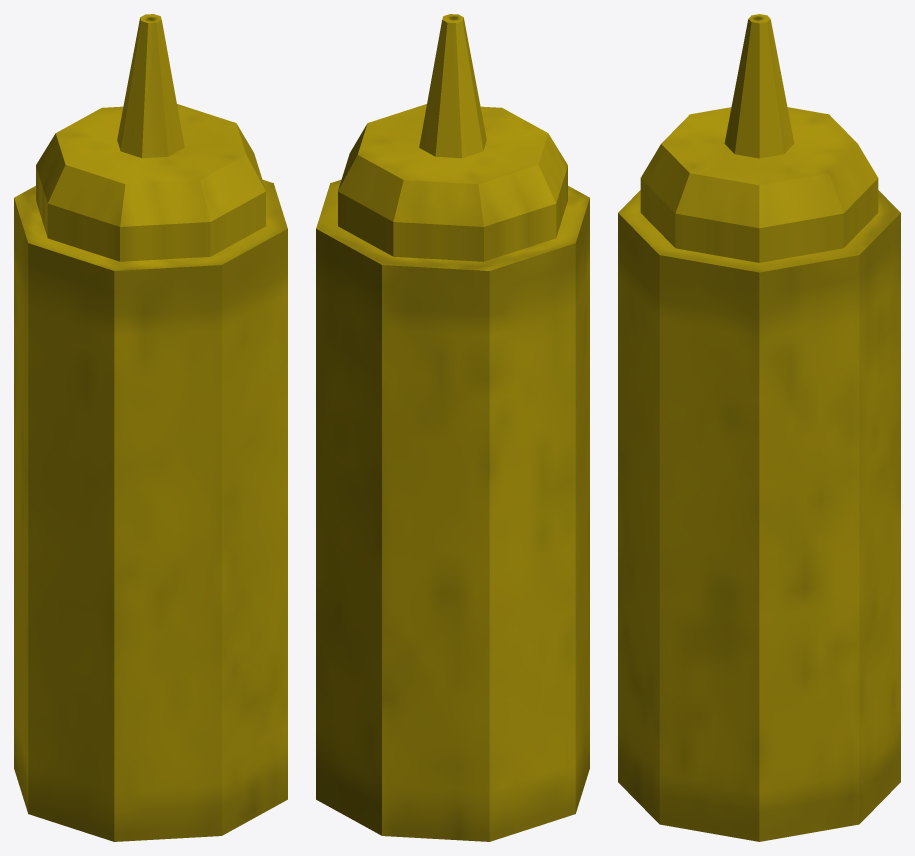
File: mustard_bottle.fbx
The picture shows the model from 3 angles, left to right: view 1: azimuth 30°, elevation 25°; view 2: azimuth 150°, elevation 25°; view 3: azimuth 270°, elevation 25°; orthographic projection.
Visible parts, largest first — view 1: Mustard; view 2: Mustard; view 3: Mustard.
Part boxes in pixels (x1=…): Mustard: x1=14, y1=14, x2=287, y2=841; Mustard: x1=316, y1=14, x2=589, y2=841; Mustard: x1=618, y1=14, x2=900, y2=841.
Bounding box in the file's own units: 0.1313 × 0.1313 × 0.3913.
